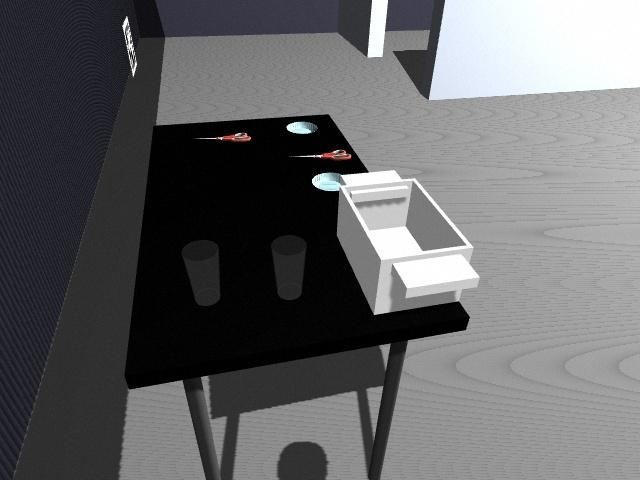cup: (182, 240, 221, 305), (271, 235, 306, 299)
plate: (311, 172, 346, 192), (286, 121, 318, 135)
scissors: (290, 150, 352, 161), (194, 132, 252, 143)
